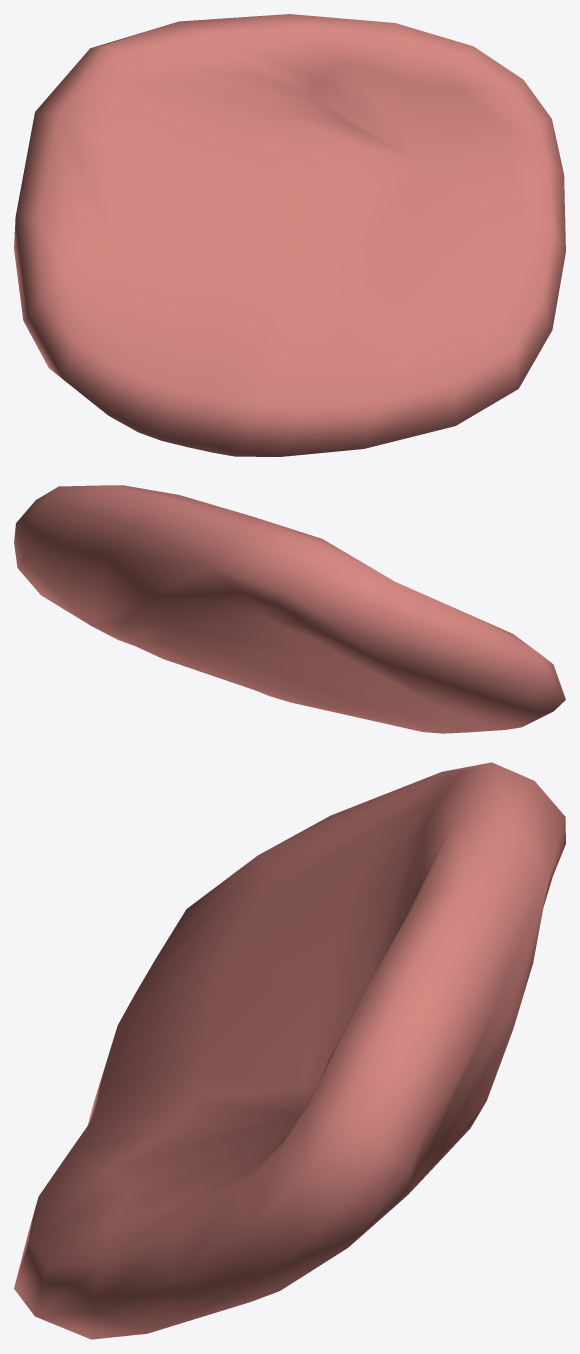
3 views of the same model, one above another, from view 1: azimuth 30°, elevation 25°; view 2: azimuth 150°, elevation 25°; view 3: azimuth 270°, elevation 25° (orthographic). The views are drawn at different scales.
Parts seen in each view (by area): view 1: ZA_92499ede1ad6594b; view 2: ZA_92499ede1ad6594b; view 3: ZA_92499ede1ad6594b.
Part boxes in pixels (x1,y1,x2,y2): ZA_92499ede1ad6594b: (14, 14, 565, 456); ZA_92499ede1ad6594b: (14, 485, 565, 733); ZA_92499ede1ad6594b: (14, 762, 565, 1339).
Size of the model in its own units: 0.00323 by 0.00176 by 0.00205.
